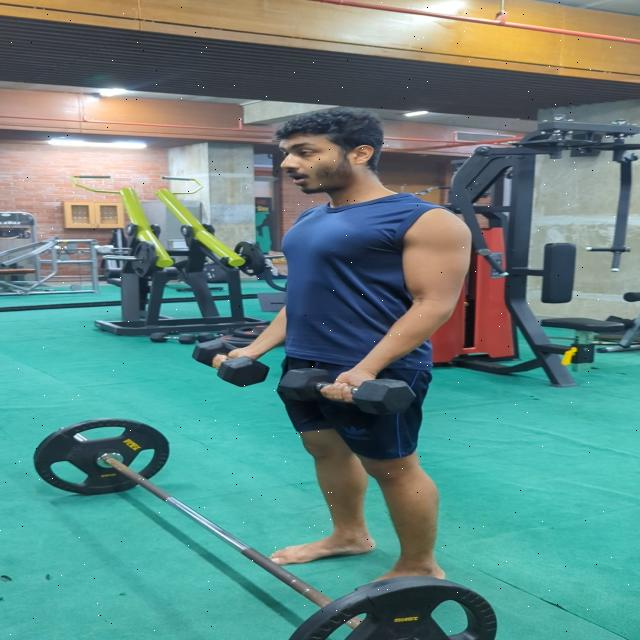Normal_DumbbellBicepCurls: (205, 105, 475, 601)
